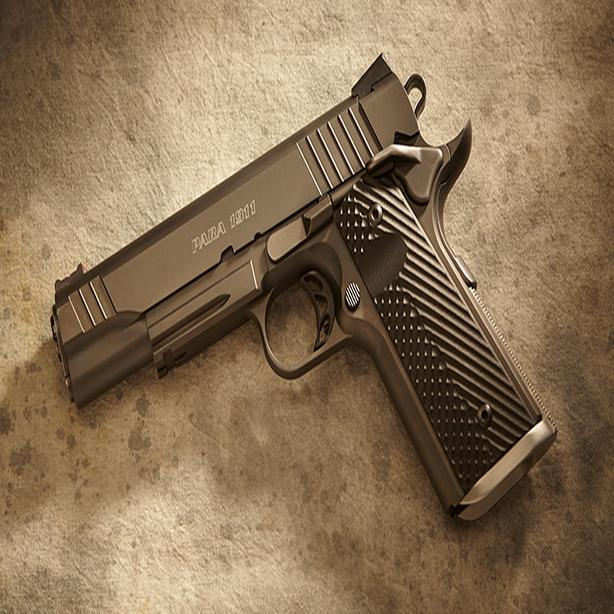Firearm: (48, 42, 569, 530)
